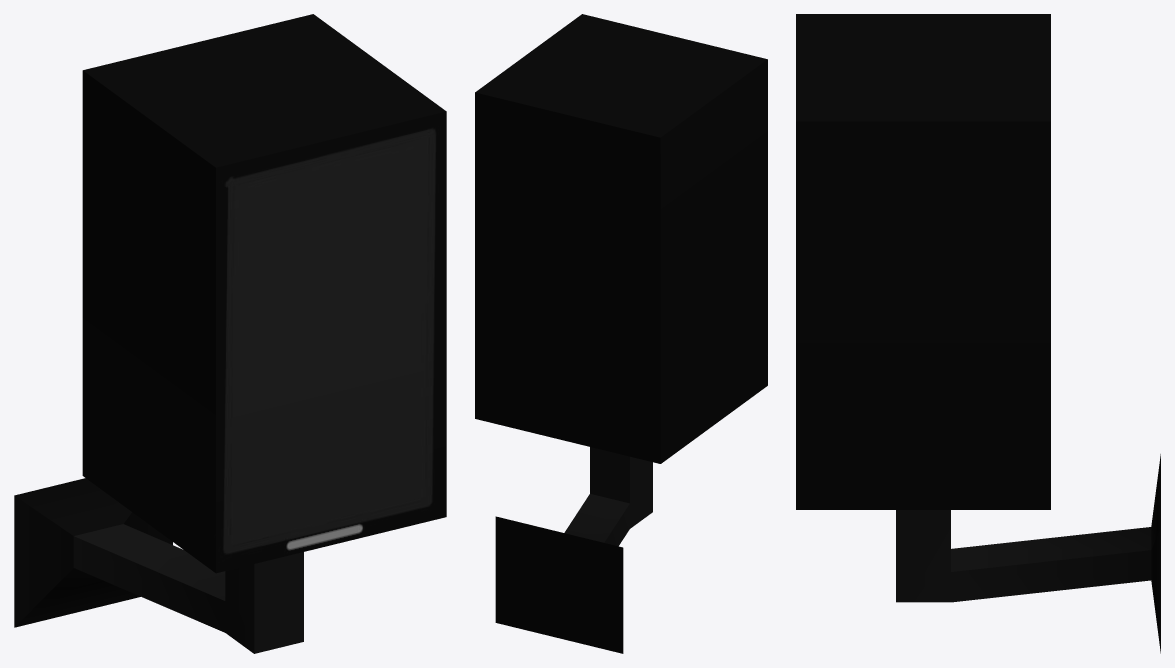
The model's file is Speaker.fbx.
3 views of the same model, side by side, from view 1: azimuth 30°, elevation 25°; view 2: azimuth 150°, elevation 25°; view 3: azimuth 270°, elevation 25° (orthographic). The views are drawn at different scales.
Visible parts, largest first — view 1: Speaker; view 2: Speaker; view 3: Speaker.
Boxes of the visible parts, x1,y1,x2,y2 form: Speaker: [14, 14, 446, 653]; Speaker: [475, 14, 767, 653]; Speaker: [796, 14, 1160, 653].
Bounding box in the file's own units: 229 × 540 × 313.
1 material, 1 textured.
